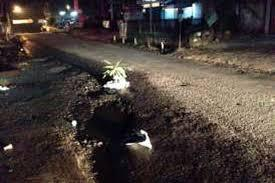Pothole: (56, 91, 275, 183), (29, 50, 74, 82)
